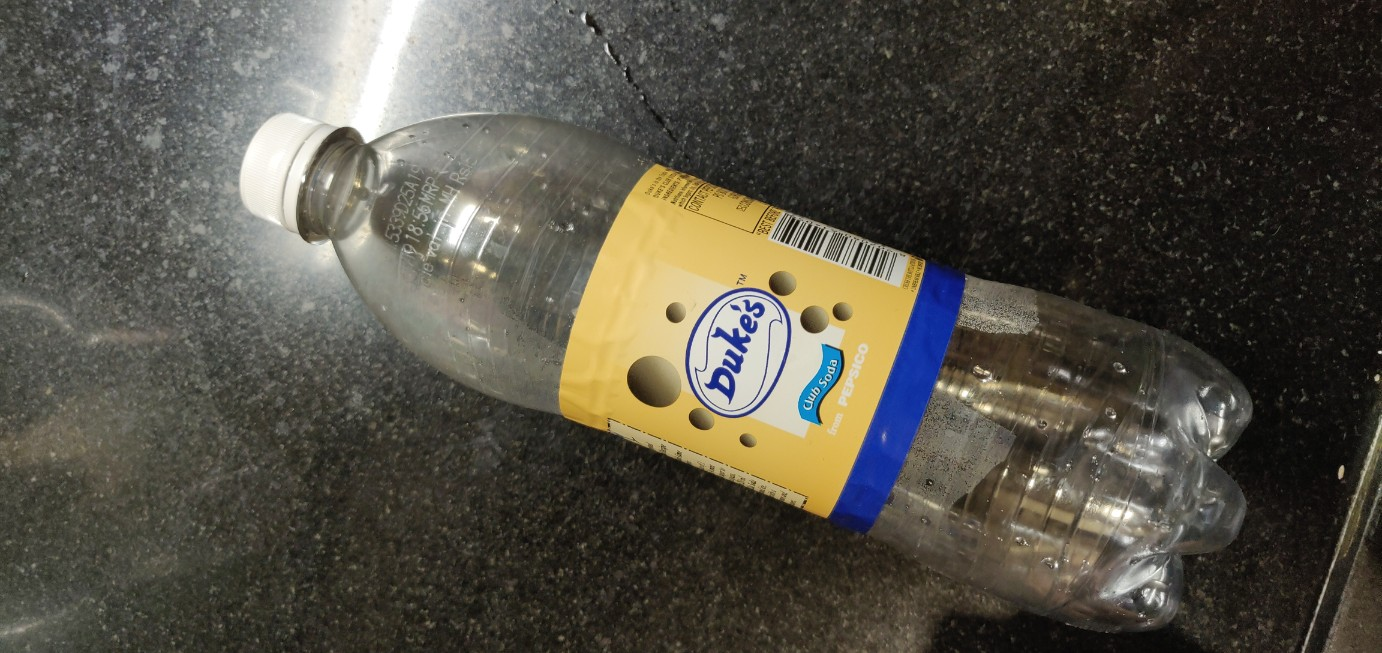Electronics: (209, 81, 1292, 649)
